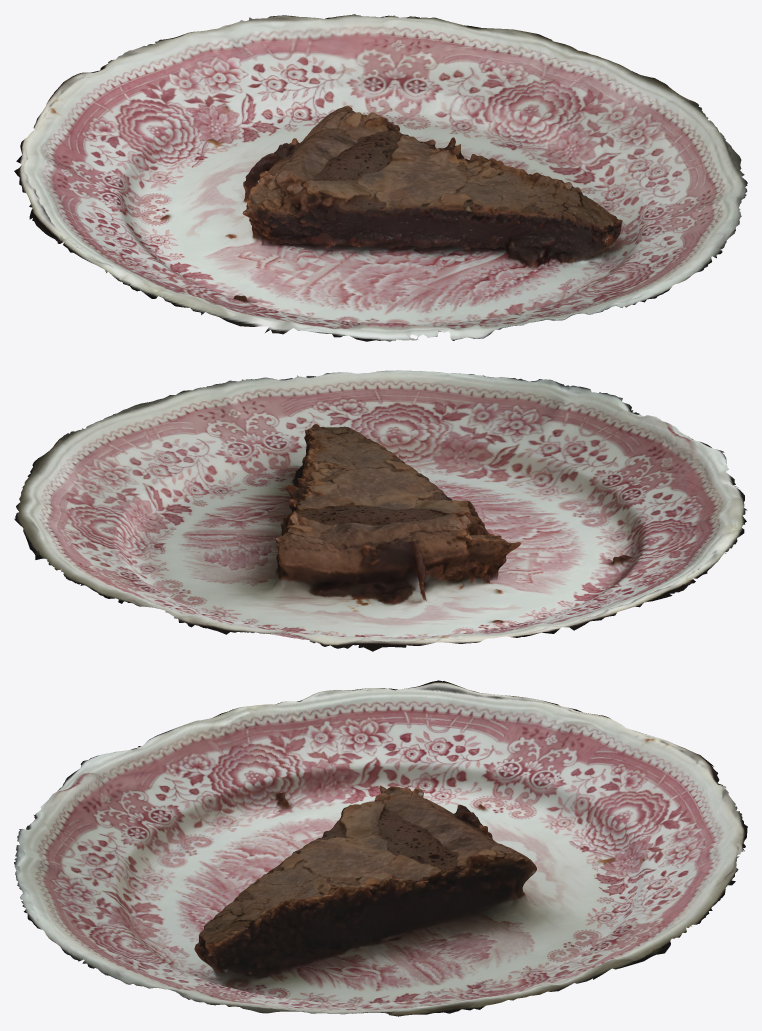
The model's file is tarta-chocolate.glb.
3 renders of one model, top to bottom at view 1: azimuth 30°, elevation 25°; view 2: azimuth 150°, elevation 25°; view 3: azimuth 270°, elevation 25°, orthographic.
Visible parts, largest first — view 1: Object_2; view 2: Object_2; view 3: Object_2.
Boxes of the visible parts, box(x1,y1,x2,y2) form: Object_2: box(14, 14, 747, 341); Object_2: box(14, 370, 747, 651); Object_2: box(14, 680, 747, 1016).
Size of the model in its own units: 0.25 by 0.0286 by 0.2461.
1 material, 1 textured.
